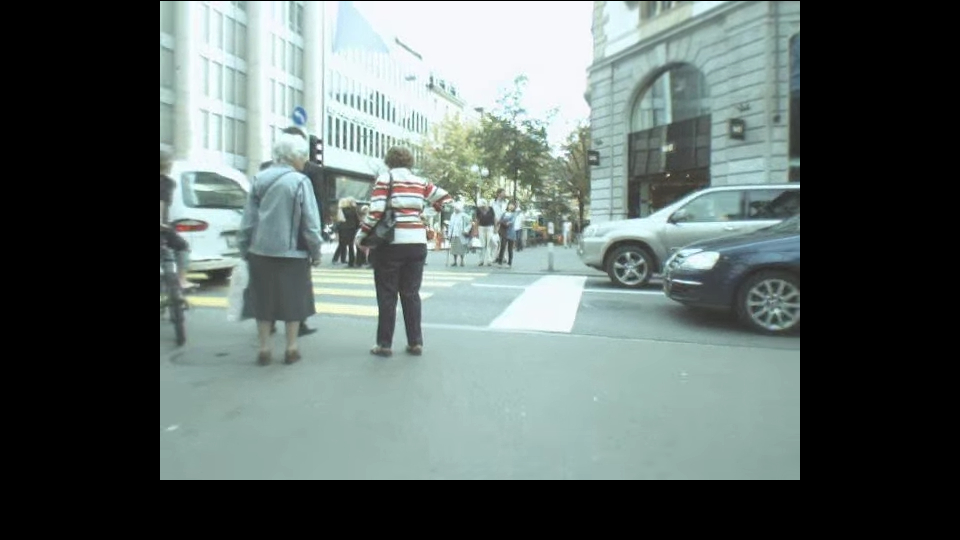bicycle: (160, 147, 198, 349)
car: (579, 181, 800, 286), (667, 203, 800, 335), (160, 156, 265, 272)
pedestrian: (238, 129, 323, 368), (365, 142, 449, 360), (331, 196, 353, 263), (497, 202, 519, 265), (476, 201, 498, 264), (448, 203, 470, 266), (340, 196, 362, 259), (559, 212, 574, 253)
